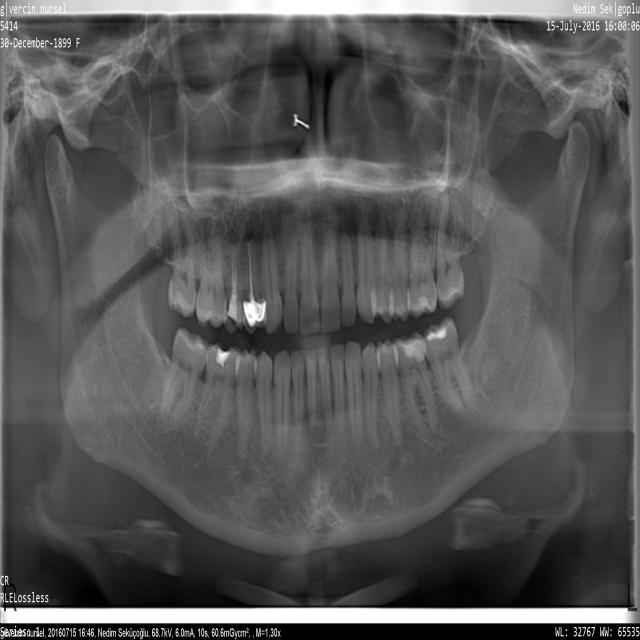Canine: (262, 212, 282, 334), (357, 198, 376, 324), (345, 342, 362, 455), (274, 351, 291, 463)
Incisores: (321, 214, 356, 335), (284, 220, 320, 335), (330, 344, 345, 438), (291, 350, 304, 447), (318, 347, 332, 437), (305, 349, 316, 430)
Premolars: (376, 340, 402, 450), (243, 228, 267, 334), (235, 350, 256, 467), (371, 209, 392, 326), (388, 211, 410, 322), (224, 228, 246, 334), (362, 342, 381, 451), (255, 351, 273, 454)
molars: (422, 316, 474, 419), (393, 331, 438, 439), (195, 342, 240, 446), (161, 327, 208, 424), (406, 211, 438, 320), (196, 222, 228, 329), (167, 200, 196, 318), (436, 191, 464, 311)
